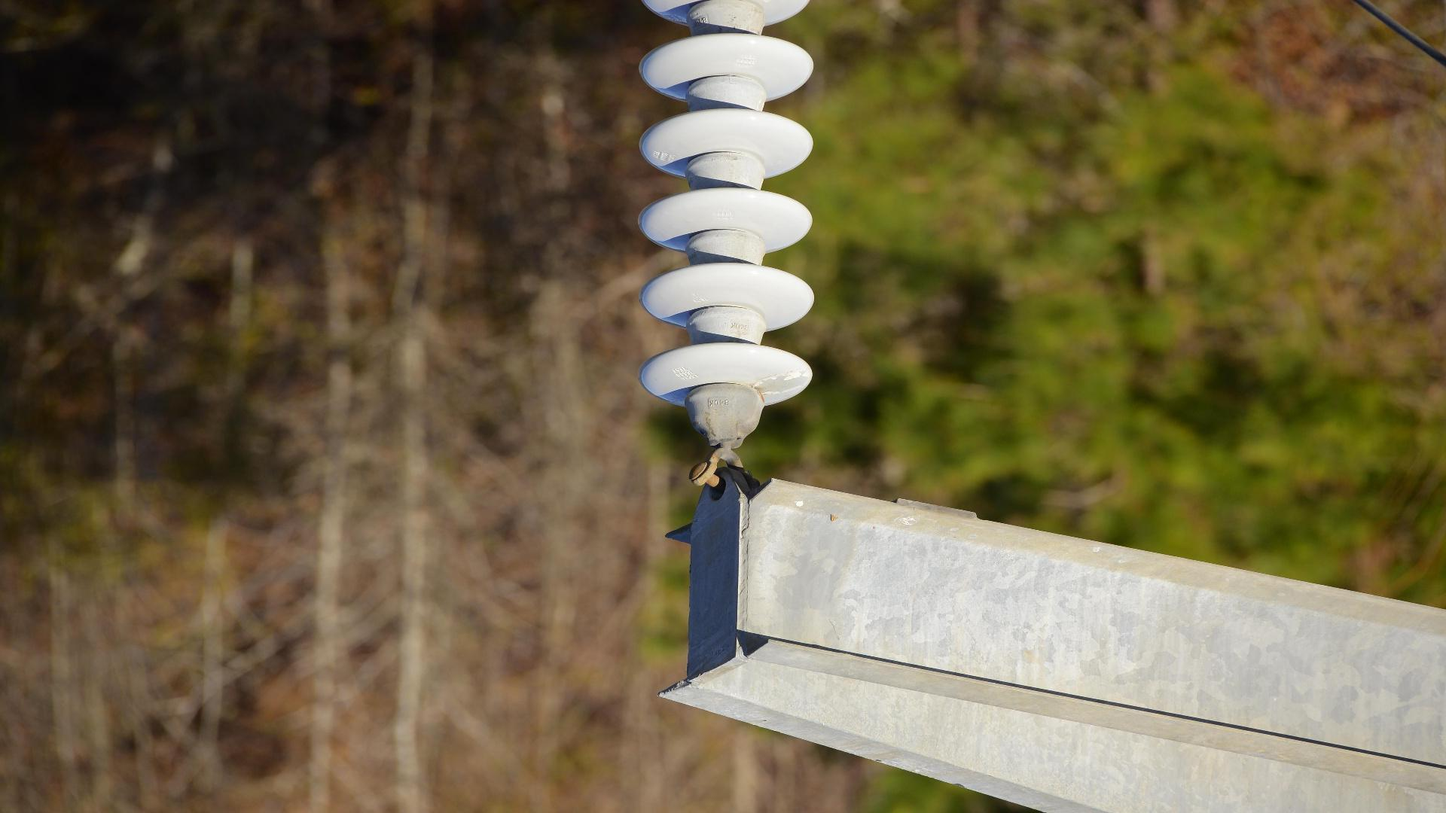insulator: (633, 1, 825, 419)
insulator_flashover: (752, 369, 813, 396)
